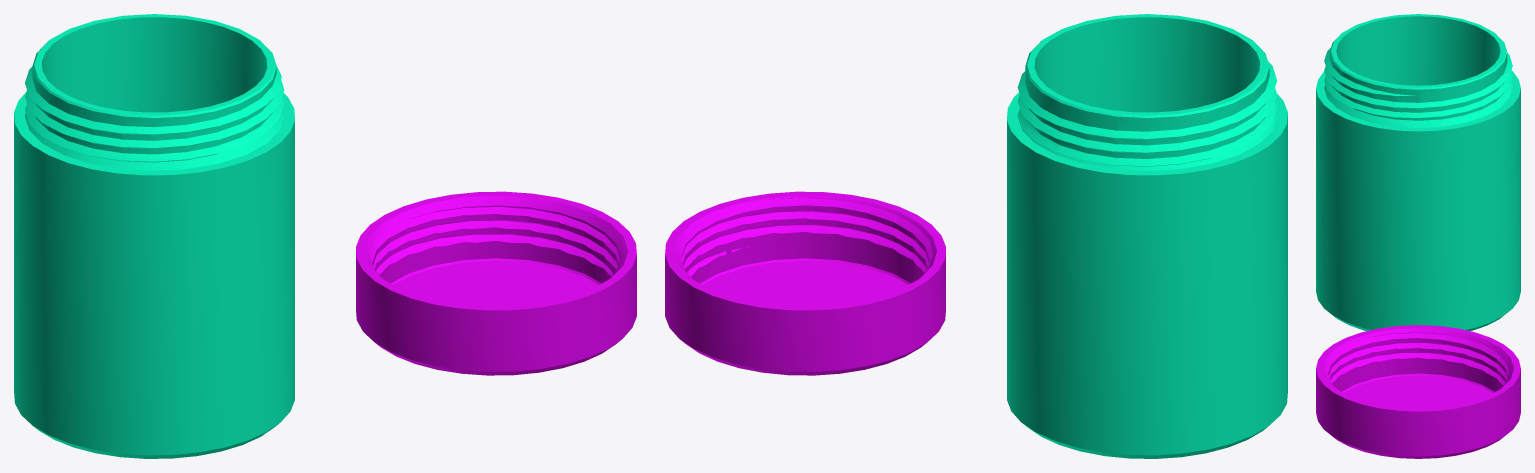
Rendered from gallery-4.glb.
The picture shows the model from 3 angles, left to right: view 1: azimuth 30°, elevation 25°; view 2: azimuth 150°, elevation 25°; view 3: azimuth 270°, elevation 25°; orthographic projection. The views are drawn at different scales.
Bounding box in the file's own units: 89.8 × 49.5 × 37.4.
